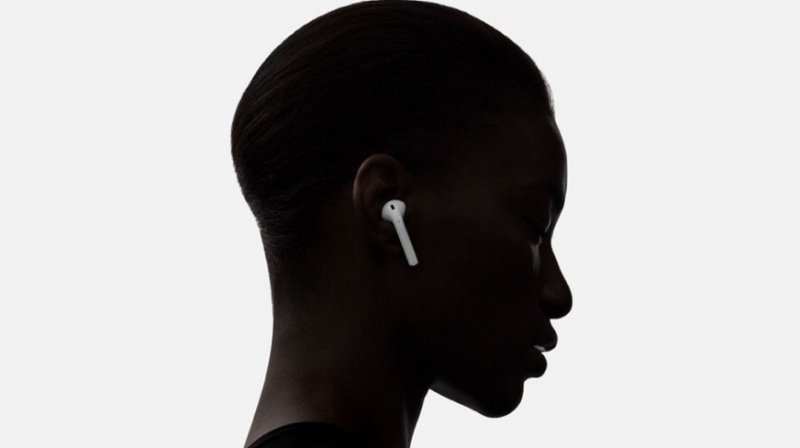earphone: (351, 154, 424, 267)
